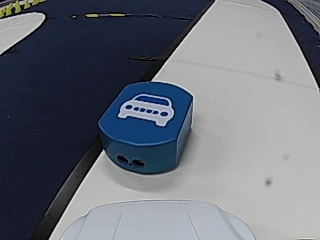safety: (118, 93, 177, 126)
